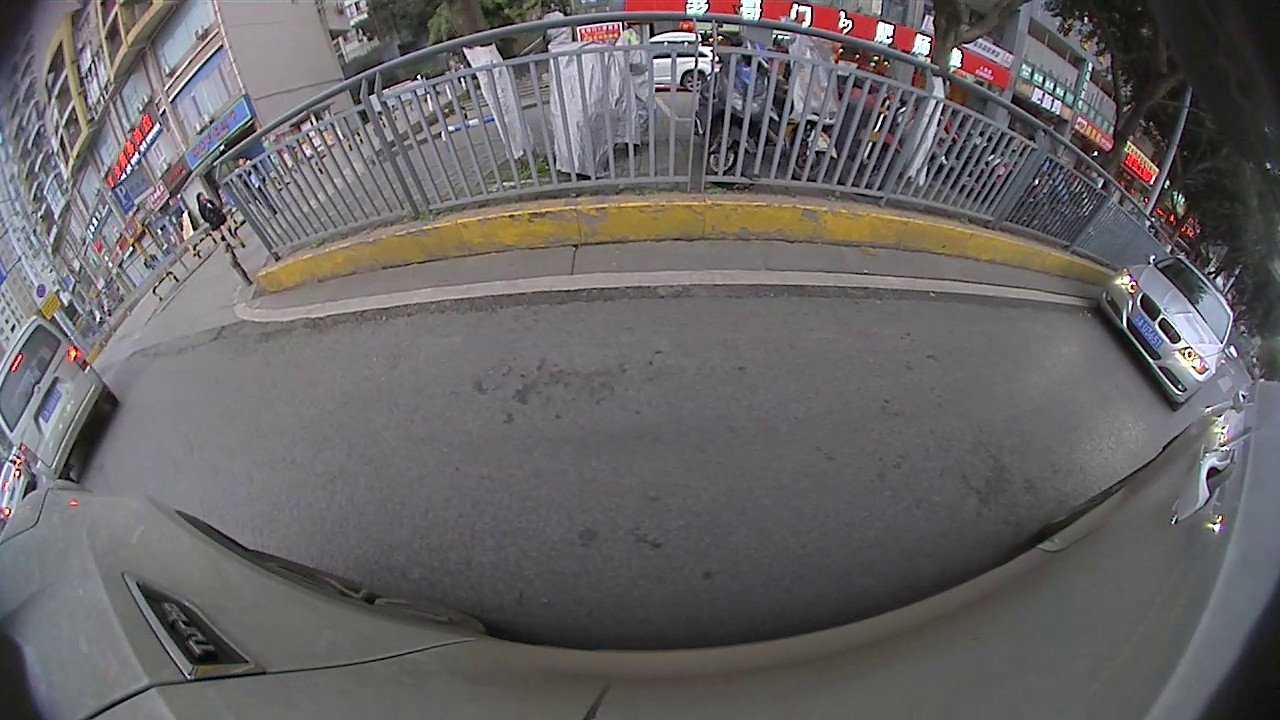car: (1091, 245, 1243, 410), (2, 312, 122, 487)
front: (837, 132, 904, 196), (700, 125, 757, 188), (785, 132, 835, 183)
rear: (680, 70, 711, 94)
rider: (682, 20, 786, 193), (759, 25, 858, 184)
